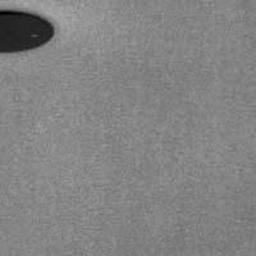Punching: (0, 9, 55, 54)
